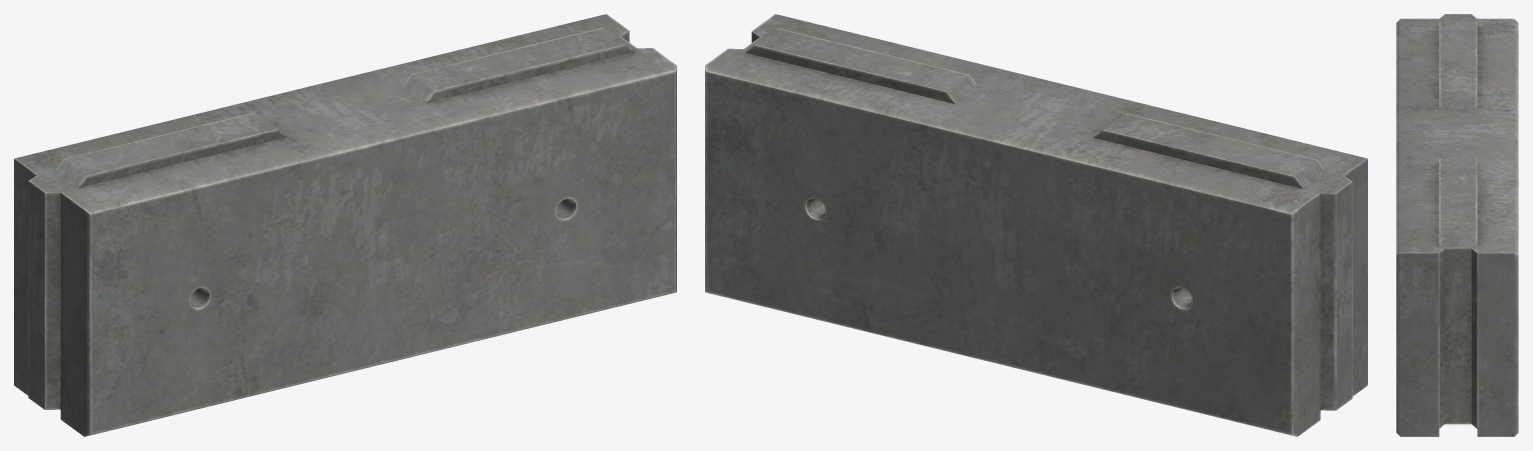
File: road-barrier-b-2.glb
3 renders of one model, left to right at view 1: azimuth 30°, elevation 25°; view 2: azimuth 150°, elevation 25°; view 3: azimuth 270°, elevation 25°, orthographic. The views are drawn at different scales.
Visible parts, largest first — view 1: Object_19; view 2: Object_19; view 3: Object_19.
Boxes of the visible parts, x1,y1,x2,y2 form: Object_19: (14, 14, 676, 436); Object_19: (705, 14, 1367, 436); Object_19: (1396, 14, 1518, 436).
Bounding box in the file's own units: 3.06 × 1.14 × 0.6614.
1 material, 1 textured.
